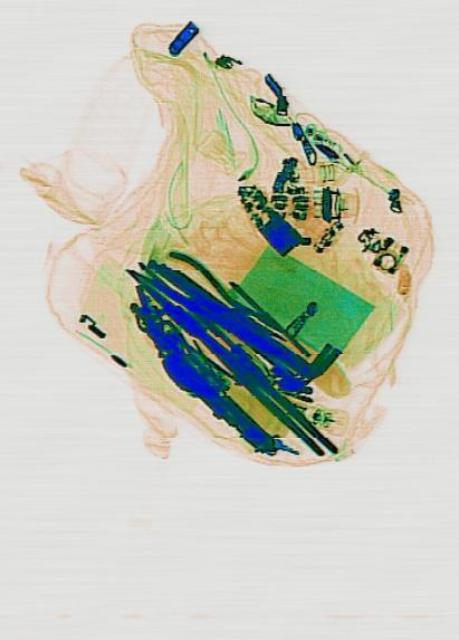Pliers: (150, 248, 291, 364)
